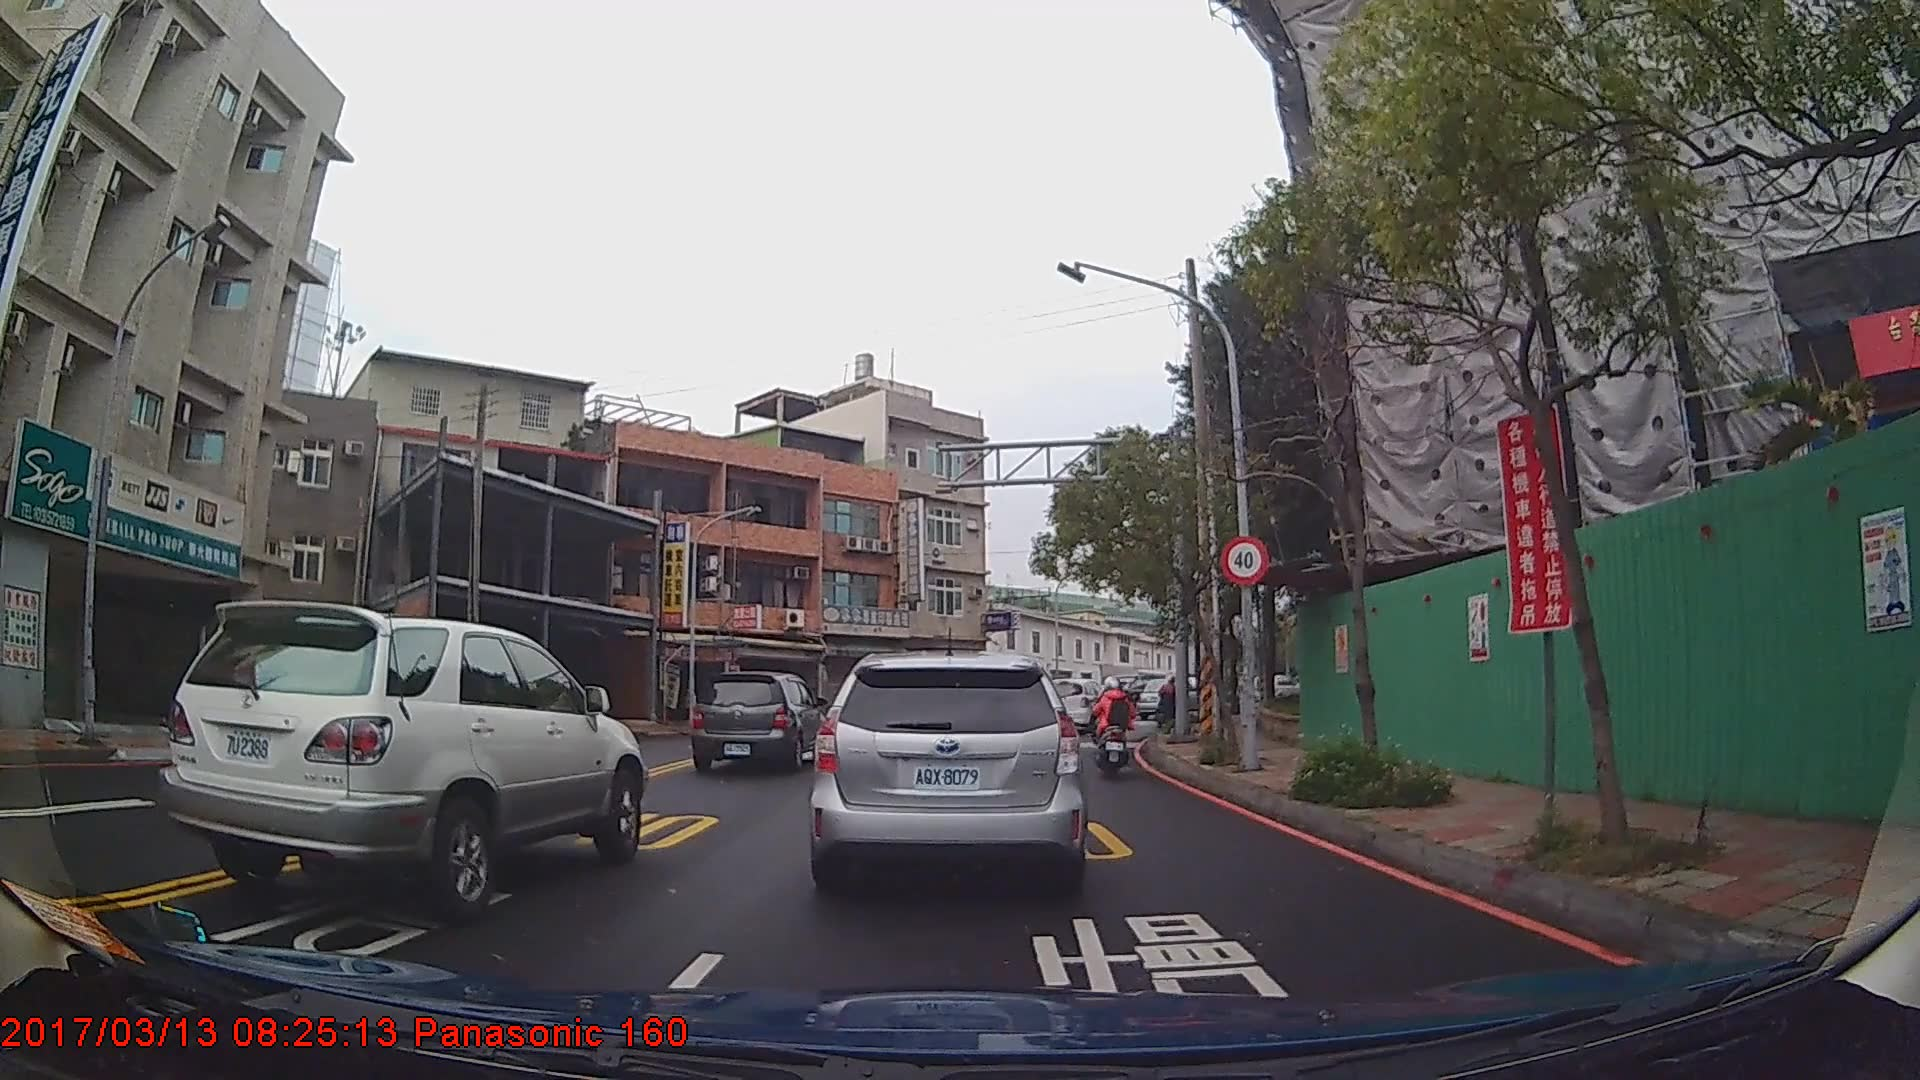rider: (1094, 676, 1140, 770), (1154, 676, 1186, 733)
vehicle: (160, 597, 647, 917), (805, 650, 1087, 901), (687, 667, 824, 768), (1043, 674, 1113, 731)
